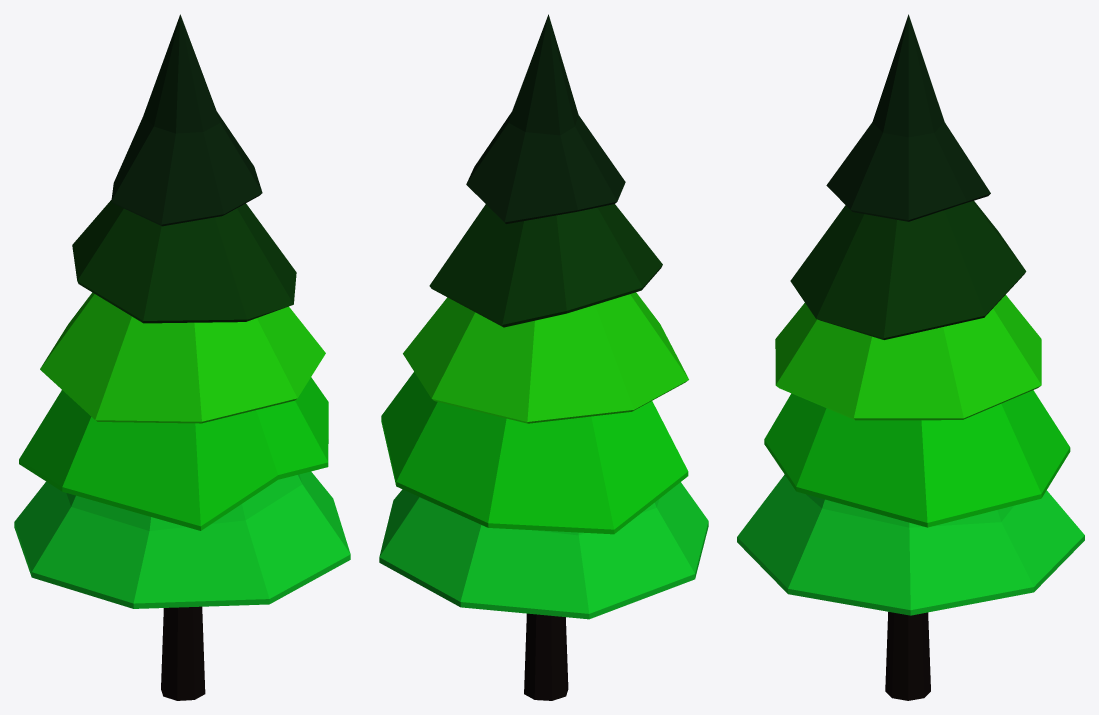
The model's file is FBX_Tree_A.FBX.
3 renders of one model, left to right at view 1: azimuth 30°, elevation 25°; view 2: azimuth 150°, elevation 25°; view 3: azimuth 270°, elevation 25°, orthographic.
Visible parts, largest first — view 1: Tree_A; view 2: Tree_A; view 3: Tree_A.
Part boxes in pixels (x1,y1,x2,y2): Tree_A: (14, 14, 350, 700); Tree_A: (379, 14, 708, 700); Tree_A: (737, 14, 1084, 700).
Size of the model in its own units: 3.3 by 7.01 by 3.27.
